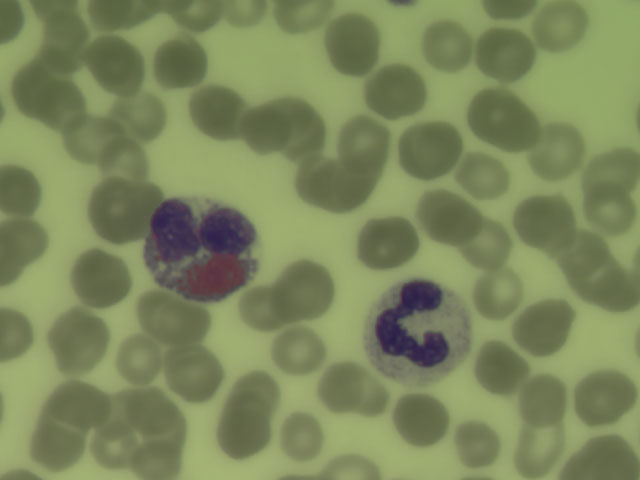RBC: (571, 364, 640, 427), (397, 121, 461, 177), (515, 299, 573, 359), (572, 429, 640, 480), (70, 251, 132, 305), (365, 69, 433, 118), (307, 159, 371, 211), (86, 181, 141, 240), (473, 342, 535, 394), (265, 326, 329, 376), (189, 85, 243, 144), (281, 262, 335, 321), (584, 260, 640, 316), (213, 410, 271, 464), (533, 122, 587, 180), (418, 21, 473, 77), (511, 195, 575, 243), (64, 113, 124, 164), (470, 266, 522, 324), (167, 346, 222, 400), (327, 17, 380, 73), (478, 28, 535, 80), (536, 2, 592, 53), (55, 309, 104, 367), (394, 394, 448, 445), (341, 116, 391, 171), (318, 364, 370, 416), (151, 39, 206, 88), (585, 147, 640, 196), (511, 425, 560, 479), (360, 221, 418, 266), (497, 105, 549, 155), (459, 151, 511, 200), (49, 381, 111, 422), (578, 192, 640, 232), (91, 423, 146, 468), (114, 94, 167, 140), (277, 97, 329, 143), (1, 164, 44, 219), (99, 144, 155, 186), (523, 376, 571, 425), (462, 221, 514, 266), (30, 424, 87, 465), (465, 91, 513, 139), (116, 334, 163, 383), (106, 54, 152, 104), (454, 419, 500, 469), (243, 102, 288, 153), (14, 64, 54, 117), (280, 412, 323, 460), (140, 434, 184, 480), (134, 386, 176, 434), (279, 128, 331, 166), (1, 221, 48, 263), (238, 291, 286, 332), (96, 391, 138, 437), (560, 232, 610, 270), (417, 194, 467, 232), (235, 373, 279, 416), (48, 89, 90, 134), (321, 448, 380, 480), (1, 305, 34, 362), (85, 40, 132, 80), (162, 309, 213, 344), (276, 1, 332, 32), (38, 43, 89, 77), (49, 13, 92, 53), (137, 291, 178, 332), (174, 1, 227, 28), (228, 1, 270, 29), (92, 1, 130, 30), (1, 1, 24, 46), (32, 1, 78, 20)
WBC: (147, 199, 260, 300), (368, 280, 471, 380)
